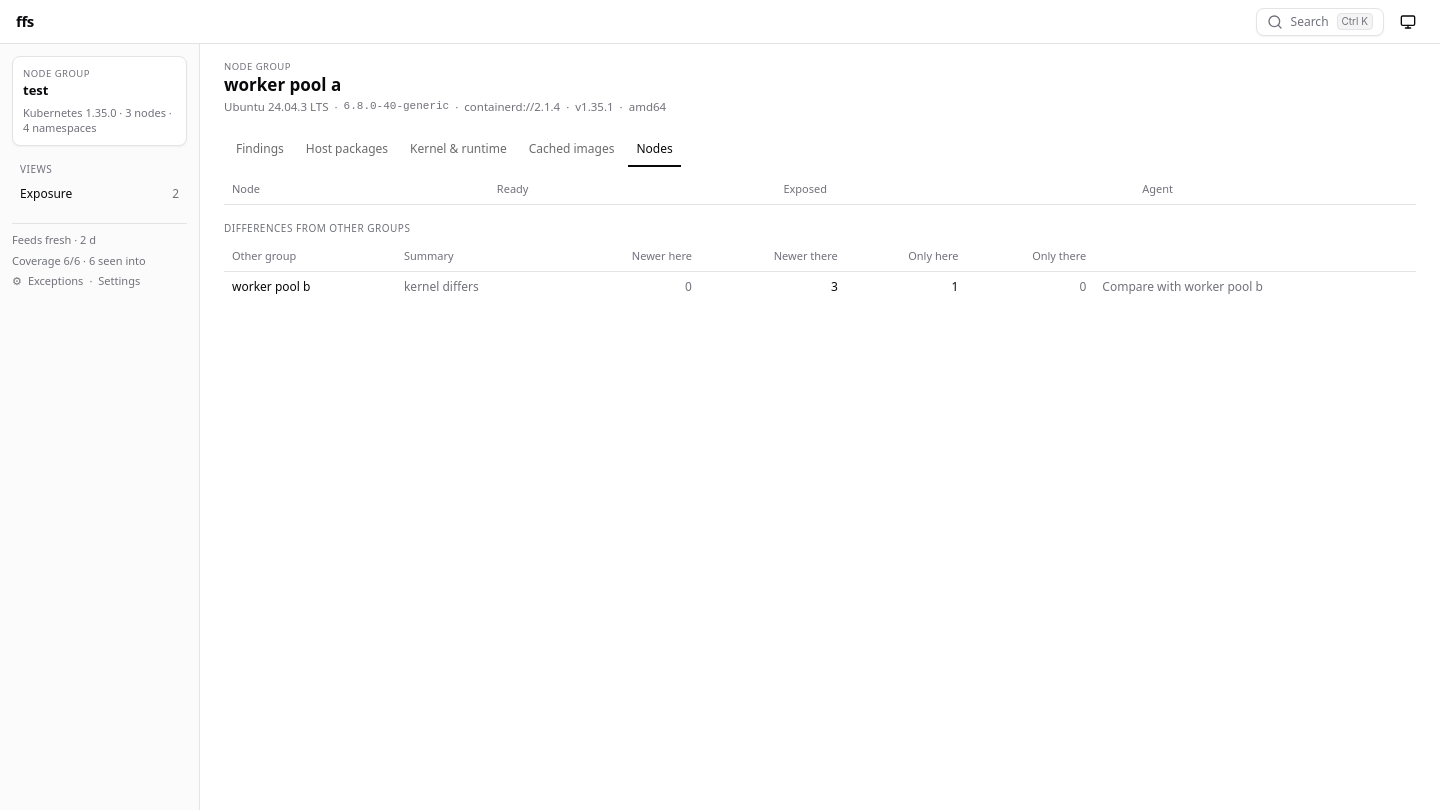
Test: compare writes the URL and shows the drift detail
Click the link "Compare with worker pool b". click: [1183, 286]
box: [1102,278,1263,295]
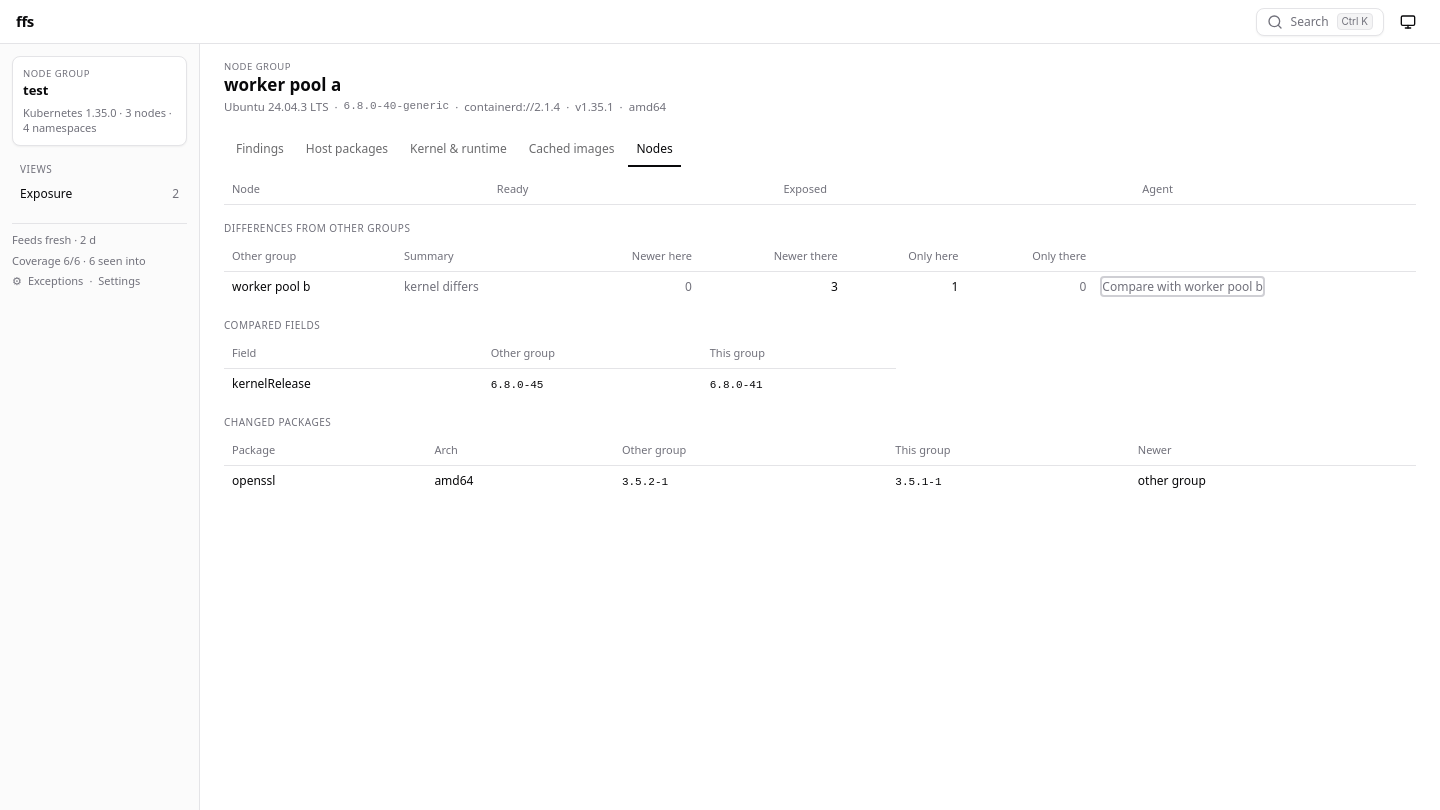
Check: the text "6.8.0-45" is shown, box [491,378,543,390]
Check: the cells read "kernelRelease", "6.8.0-45", "6.8.0-41", in this order, box [224,369,483,399]; [483,369,702,399]; [702,369,896,399]
Check: the text "other group" is shown, box [1130,466,1416,496]
